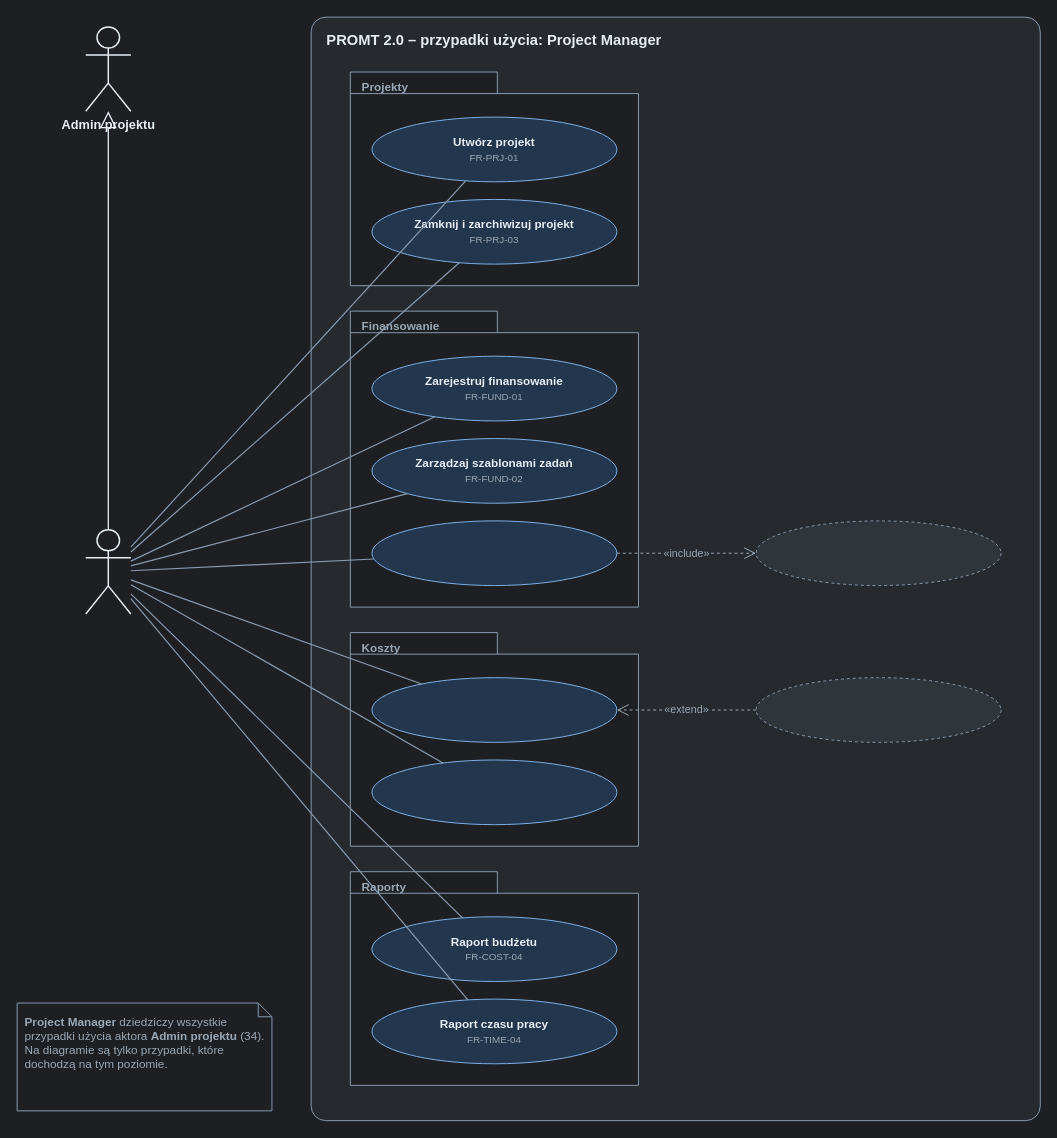
The diagram is 1057 pixels wide and 1138 high, and some of its shapes have lost their labels. The shapes that lost their labels are listed below. From the top down, each one's centre as x and y in pixels, then its label:
point 108,571: Project Manager
point 494,553: Podepnij finansowanie do projektu FR-FUND-03
point 878,553: Utwórz zadania z szablonów FR-FUND-04
point 494,709: Rejestruj wydatek FR-COST-01
point 878,709: Dołącz skan dokumentu FR-COST-03
point 494,792: Zatwierdź wydatek FR-COST-05
